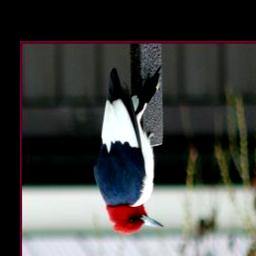Woodpecker: (93, 62, 165, 240)
